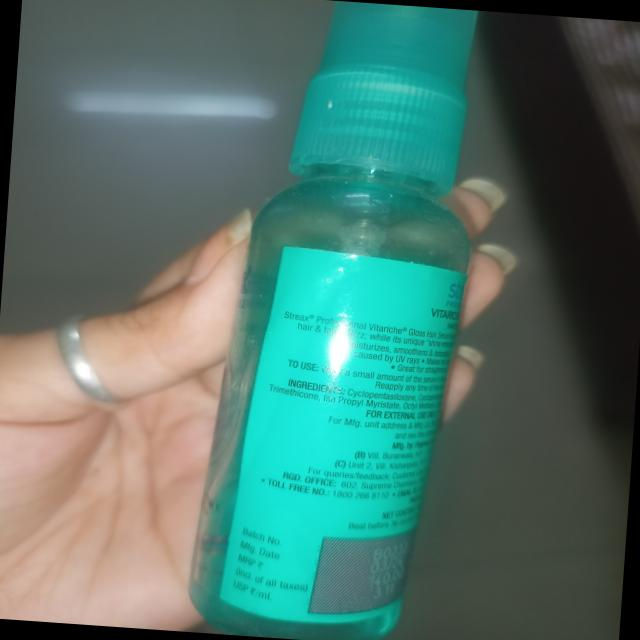plastic_bottle: (117, 2, 569, 640)
